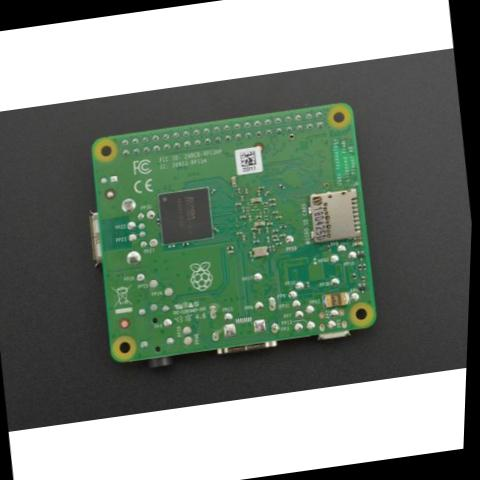Raspberry-Pi-3-Model-A-: (69, 95, 395, 384)
